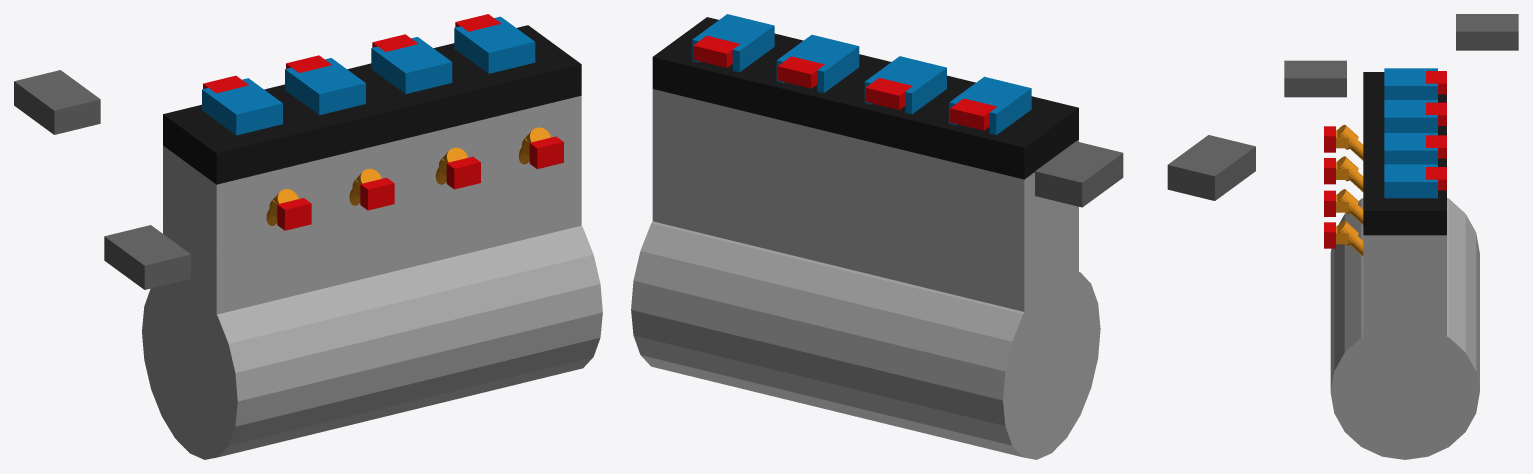
Rendered from Enigine.fbx.
The picture shows the model from 3 angles, left to right: view 1: azimuth 30°, elevation 25°; view 2: azimuth 150°, elevation 25°; view 3: azimuth 270°, elevation 25°; orthographic projection. The views are drawn at different scales.
Parts seen in each view (by area): view 1: onderblok, cilinderkop, kleppendeksel, computerbobine, computerinjector, bobine4, bobine3, bobine2, bobine1, injectorstekker4, injectorstekker3, injectorstekker1 (+1 smaller); view 2: onderblok, cilinderkop, kleppendeksel, computerbobine, computerinjector, bobine3, bobine1, bobine4, bobine2, bobinestekker3, bobinestekker2, bobinestekker4 (+1 smaller); view 3: onderblok, kleppendeksel, cilinderkop, computerinjector, computerbobine, bobine4, bobine2, bobine1, bobine3, injector4, injector1, injector2 (+9 smaller).
Part boxes in pixels (box(x1,y1,x2,y2)): onderblok: box(142, 165, 602, 459); cilinderkop: box(163, 95, 581, 253); kleppendeksel: box(163, 25, 581, 184); computerbobine: box(14, 70, 100, 134); computerinjector: box(104, 225, 190, 289); bobine4: box(454, 16, 535, 73); bobine3: box(371, 37, 452, 93); bobine2: box(285, 58, 365, 115); bobine1: box(202, 78, 282, 135); injectorstekker4: box(529, 136, 563, 169); injectorstekker3: box(446, 156, 480, 189); injectorstekker1: box(277, 198, 311, 230); onderblok: box(631, 160, 1100, 459); cilinderkop: box(652, 89, 1078, 250); kleppendeksel: box(652, 17, 1078, 179); computerbobine: box(1035, 141, 1123, 207); computerinjector: box(1167, 135, 1255, 200); bobine3: box(776, 34, 859, 92); bobine1: box(949, 76, 1031, 134); bobine4: box(692, 14, 774, 72); bobine2: box(864, 56, 946, 114); bobinestekker3: box(777, 56, 824, 88); bobinestekker2: box(865, 77, 912, 109); bobinestekker4: box(693, 36, 739, 67); onderblok: box(1330, 198, 1479, 459); kleppendeksel: box(1363, 72, 1446, 235); cilinderkop: box(1363, 235, 1446, 289); computerinjector: box(1284, 60, 1346, 97); computerbobine: box(1456, 14, 1518, 50); bobine4: box(1384, 164, 1437, 198); bobine2: box(1384, 100, 1437, 132); bobine1: box(1384, 68, 1437, 99); bobine3: box(1384, 133, 1437, 164); injector4: box(1336, 220, 1363, 256); injector1: box(1336, 124, 1363, 160); injector2: box(1336, 156, 1363, 191).
Bounding box in the file's own units: 64.76 × 43.61 × 34.58.
